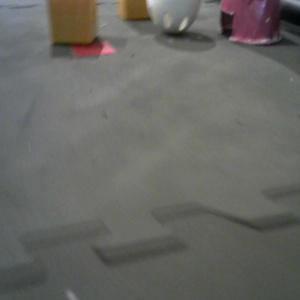right: (218, 1, 284, 45)
